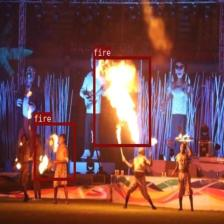fire: (93, 56, 151, 146), (33, 122, 75, 180)
